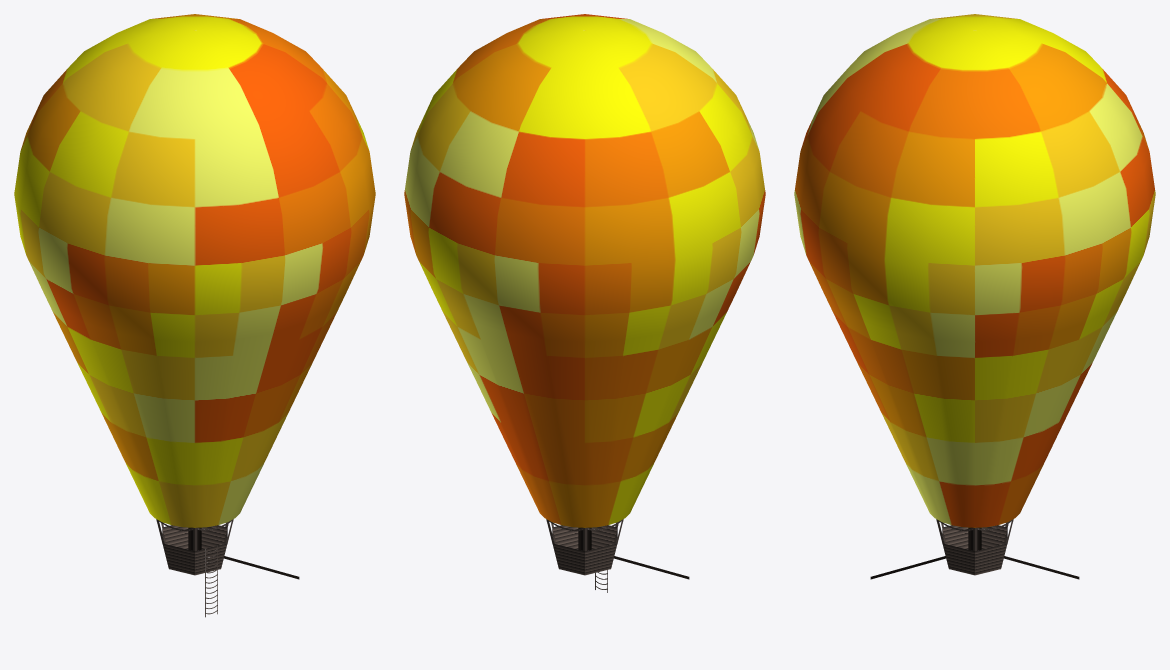
The model's file is Balloon A.fbx.
The picture shows the model from 3 angles, left to right: view 1: azimuth 30°, elevation 25°; view 2: azimuth 150°, elevation 25°; view 3: azimuth 270°, elevation 25°; orthographic projection.
Parts seen in each view (by area): view 1: Montgolfier, Basket; view 2: Montgolfier, Basket; view 3: Montgolfier, Basket.
Part boxes in pixels (x1,y1,x2,y2): Montgolfier: (14, 14, 375, 527); Basket: (156, 519, 233, 575); Montgolfier: (404, 14, 765, 527); Basket: (546, 519, 623, 575); Montgolfier: (794, 14, 1155, 527); Basket: (936, 519, 1013, 575).
Size of the model in its own units: 24 by 42.1 by 24.
